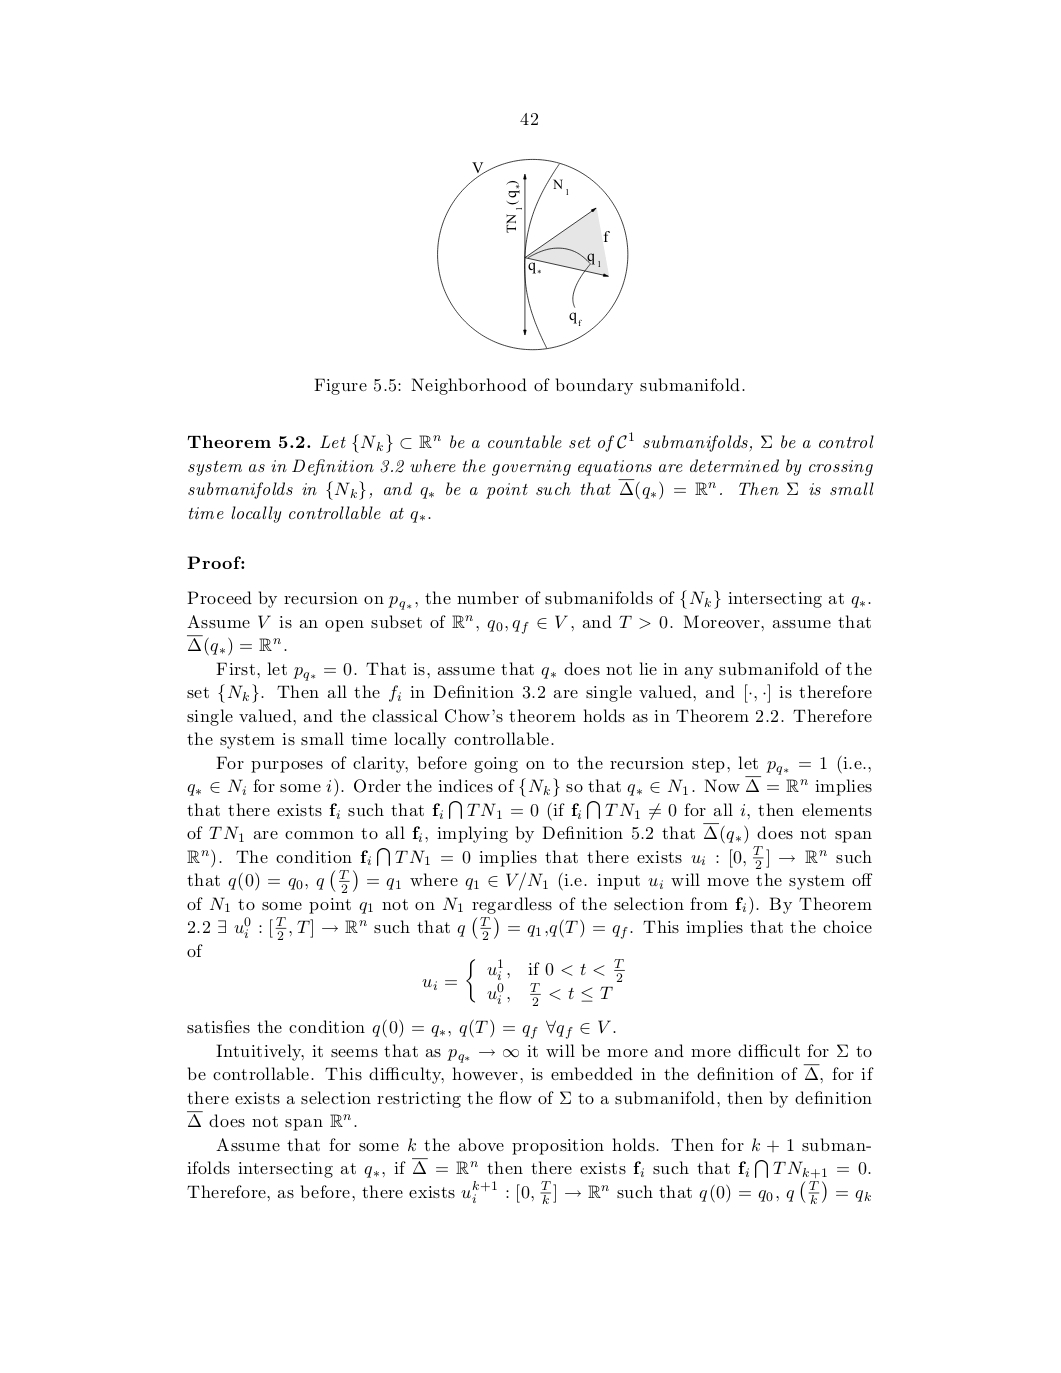figure: (437, 157, 627, 351)
formula: (422, 960, 624, 1005), (187, 635, 286, 655)
